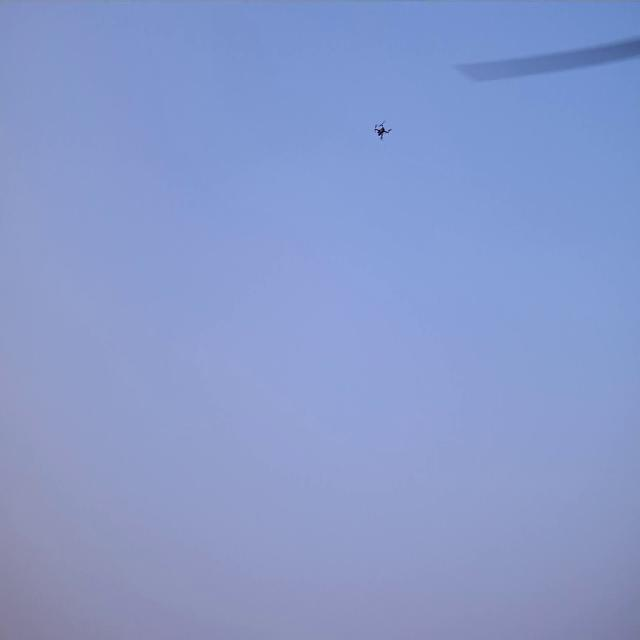UAV: (375, 123, 390, 140)
